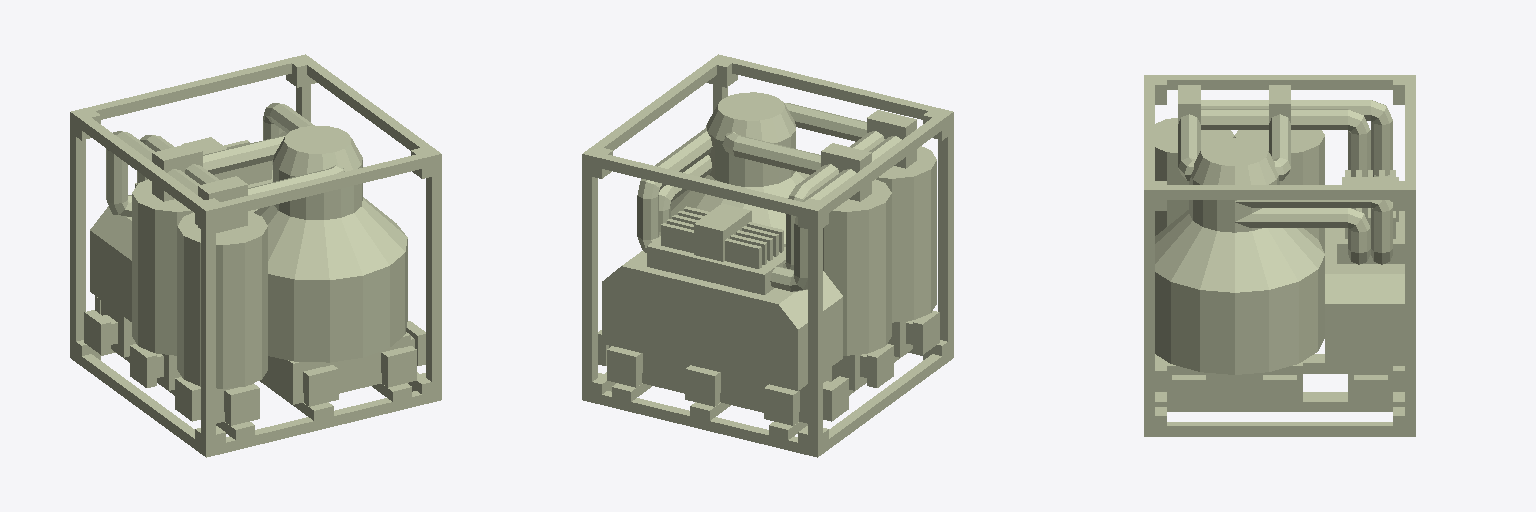
The model's file is chemical_plant.obj.
The picture shows the model from 3 angles: view 1: azimuth 30°, elevation 25°; view 2: azimuth 150°, elevation 25°; view 3: azimuth 270°, elevation 25°; orthographic projection.
Visible parts, largest first — view 1: Base, Frame; view 2: Base, Frame, Slider; view 3: Base, Frame.
Boxes of the visible parts, <box> form: Base: <box>70,103,441,457</box>; Frame: <box>70,54,441,436</box>; Base: <box>582,92,953,457</box>; Frame: <box>582,54,953,436</box>; Slider: <box>694,203,751,261</box>; Base: <box>1144,85,1415,436</box>; Frame: <box>1144,75,1415,415</box>.
Size of the model in its own units: 3 by 3 by 3.